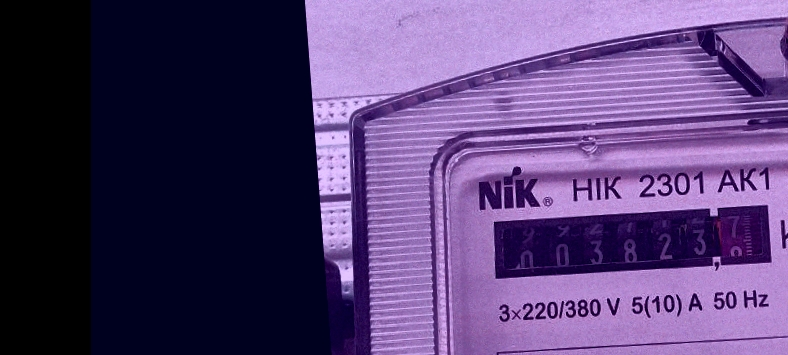0: (550, 238, 572, 266), (517, 245, 536, 269)
2: (655, 228, 676, 261)
3: (586, 234, 606, 265), (690, 225, 710, 256)
7: (726, 212, 744, 241)
8: (620, 234, 639, 263)
9: (517, 223, 536, 244)
screen: (484, 195, 777, 287)
